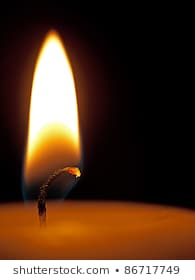Fire: (26, 27, 83, 202)
